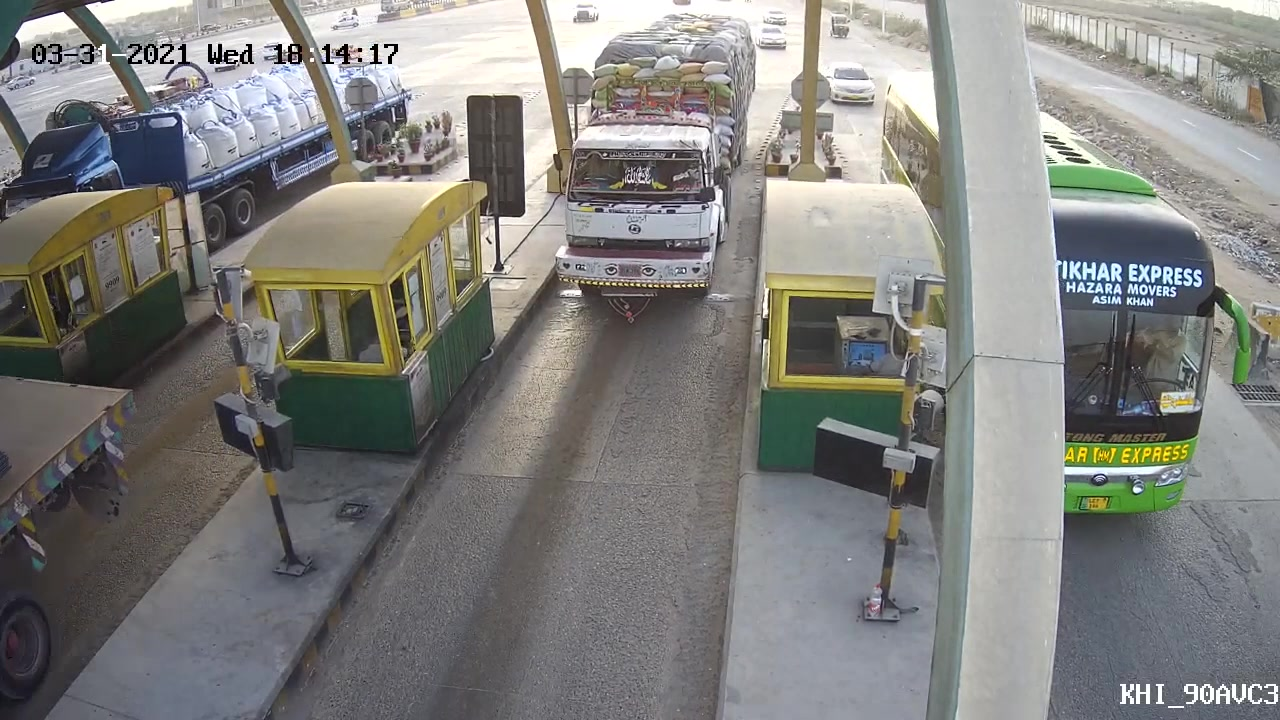F6: (553, 10, 760, 334)
